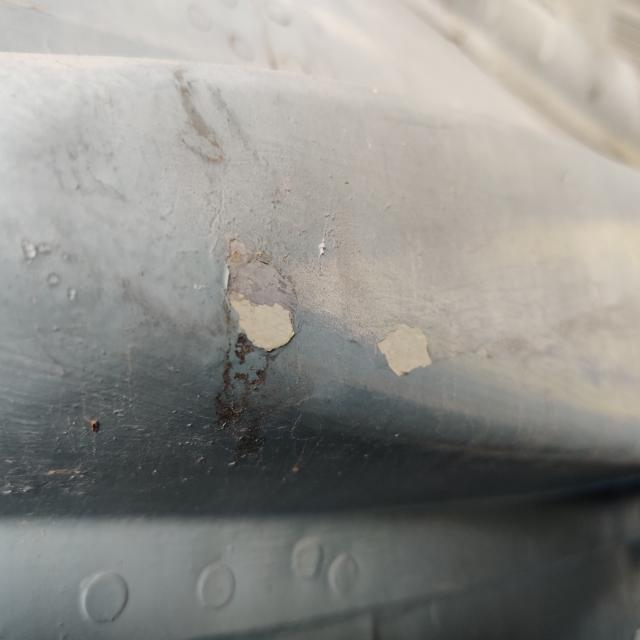paint-off: (218, 282, 309, 371), (365, 309, 450, 395)
